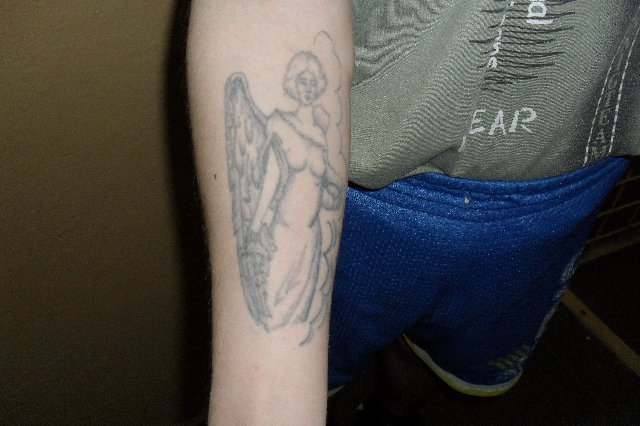tatu1_angel: (213, 20, 337, 337)
